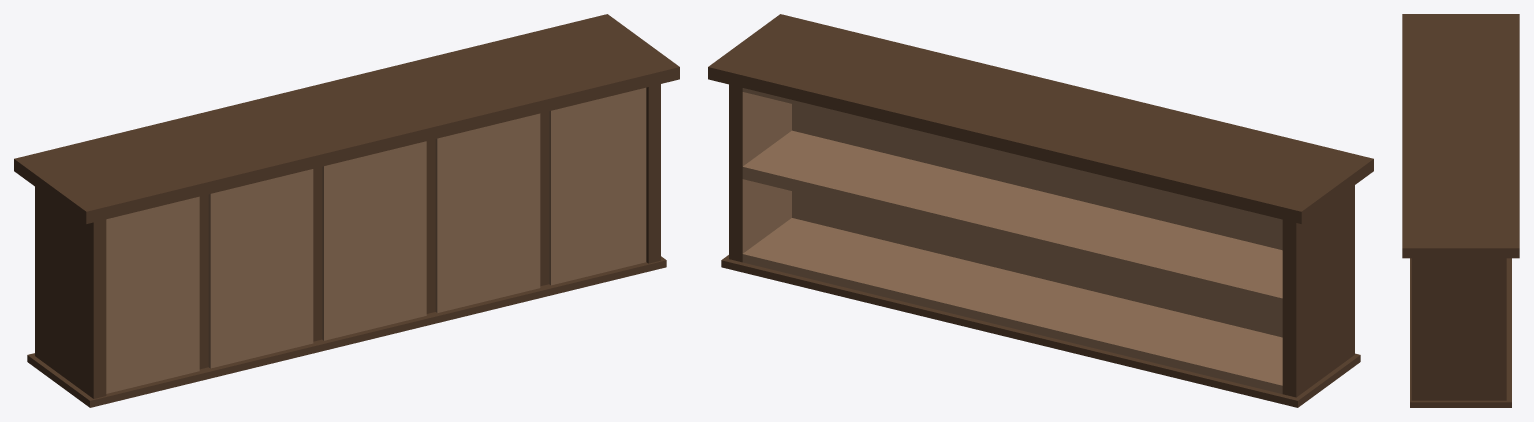
The model's file is SM_Props_Cafe_18.fbx.
3 views of the same model, side by side, from view 1: azimuth 30°, elevation 25°; view 2: azimuth 150°, elevation 25°; view 3: azimuth 270°, elevation 25° (orthographic). The views are drawn at different scales.
Visible parts, largest first — view 1: SM_Props_Cafe_18; view 2: SM_Props_Cafe_18; view 3: SM_Props_Cafe_18.
Part boxes in pixels (x1,y1,x2,y2): SM_Props_Cafe_18: (14, 14, 679, 407); SM_Props_Cafe_18: (708, 14, 1373, 407); SM_Props_Cafe_18: (1402, 14, 1519, 407).
Bounding box in the file's own units: 3.14 × 1.02 × 0.663.
